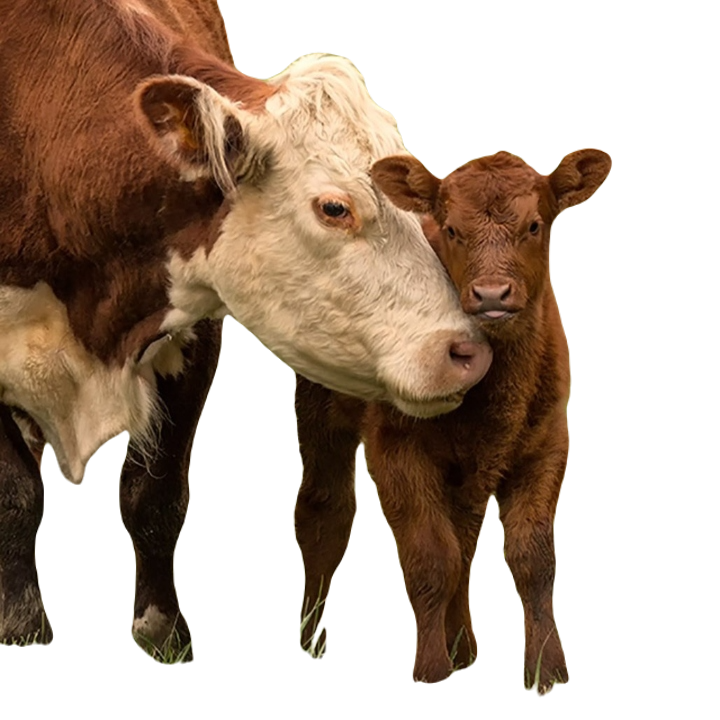Cow: (0, 1, 493, 659)
